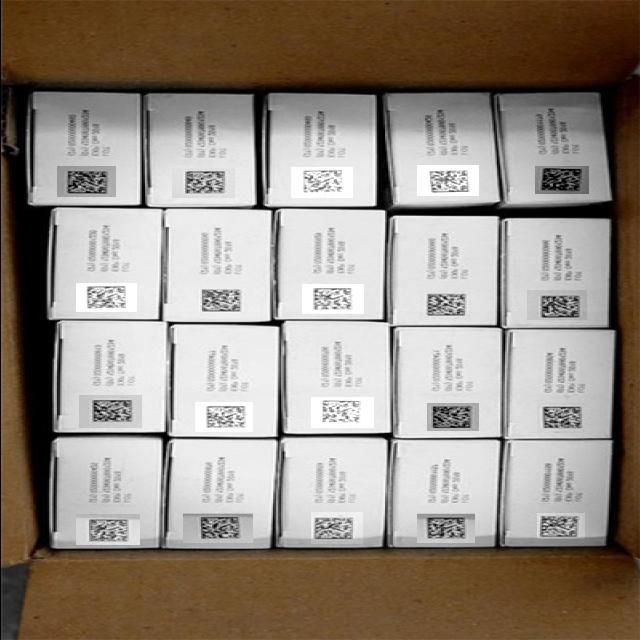DataMatrix: (182, 513, 252, 543), (78, 395, 141, 428), (75, 514, 139, 545), (310, 397, 373, 428), (416, 165, 478, 196), (290, 167, 352, 198), (171, 168, 234, 198), (301, 284, 363, 314), (191, 283, 247, 316), (56, 166, 115, 197), (526, 290, 586, 320), (75, 283, 136, 312), (416, 513, 474, 543), (194, 402, 252, 432), (310, 512, 362, 544), (418, 290, 470, 320), (534, 166, 588, 194), (426, 403, 478, 431), (536, 403, 584, 433), (536, 513, 584, 539)
